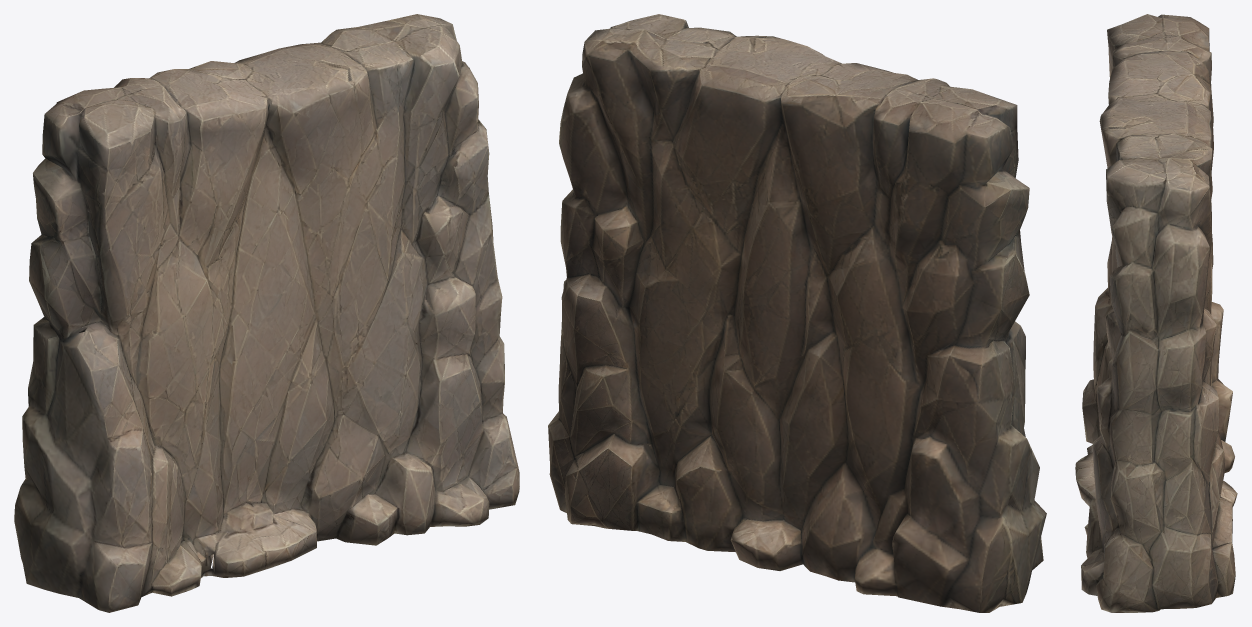
The model's file is P06_CaveWall.glb.
The picture shows the model from 3 angles, left to right: view 1: azimuth 30°, elevation 25°; view 2: azimuth 150°, elevation 25°; view 3: azimuth 270°, elevation 25°; orthographic projection. The views are drawn at different scales.
Parts seen in each view (by area): view 1: texture_mapping; view 2: texture_mapping; view 3: texture_mapping.
Boxes of the visible parts, box(x1,y1,x2,y2) form: texture_mapping: box(14, 14, 519, 612); texture_mapping: box(548, 14, 1046, 612); texture_mapping: box(1075, 14, 1237, 612).
Bounding box in the file's own units: 0.9978 × 0.9814 × 0.3401.
Materials: 1 (1 with a texture image).
